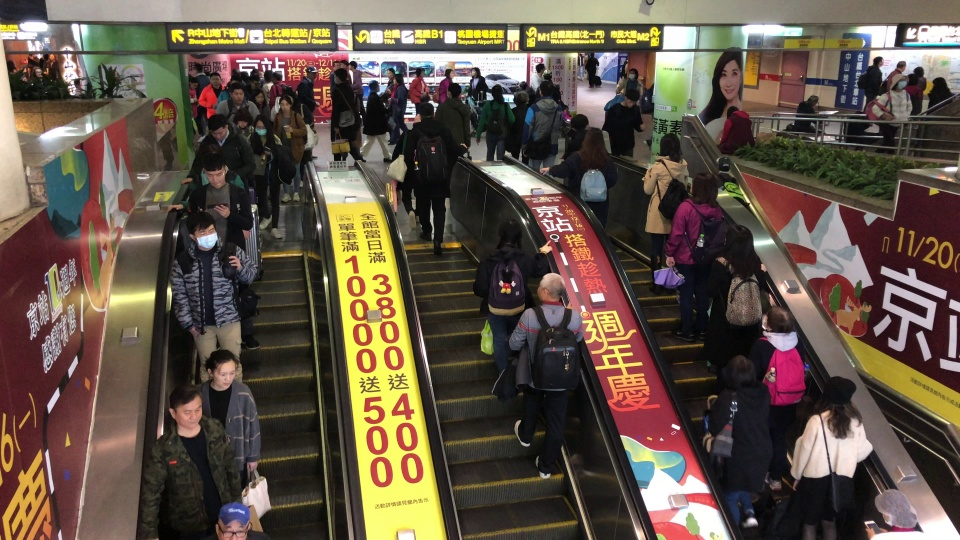person_head: (874, 488, 918, 528), (168, 384, 203, 430), (203, 348, 238, 391), (819, 375, 857, 413), (214, 501, 250, 540), (720, 353, 757, 390), (186, 211, 218, 250), (722, 224, 754, 260), (689, 171, 719, 207), (534, 272, 565, 303), (495, 218, 523, 250), (761, 305, 793, 333), (579, 127, 607, 156), (657, 132, 681, 161), (207, 113, 229, 142), (253, 113, 272, 136), (232, 108, 253, 128), (569, 113, 589, 132), (228, 82, 245, 104), (890, 73, 909, 91), (624, 88, 640, 109), (418, 102, 435, 119), (277, 94, 293, 112), (715, 155, 731, 173), (538, 80, 554, 98), (489, 83, 504, 100), (930, 77, 948, 91), (446, 83, 461, 99), (514, 90, 529, 106), (251, 88, 265, 105), (333, 68, 347, 84), (911, 65, 925, 80), (228, 74, 242, 88), (367, 79, 380, 93), (209, 72, 221, 86), (305, 66, 317, 80), (262, 69, 274, 82), (414, 66, 426, 79), (726, 105, 738, 118), (806, 94, 819, 106), (271, 71, 283, 83), (392, 72, 404, 84), (872, 56, 884, 68), (192, 62, 203, 75), (627, 67, 638, 80), (895, 59, 906, 72), (189, 76, 199, 90), (230, 68, 241, 80), (469, 67, 480, 79), (249, 68, 259, 81), (535, 63, 545, 76), (32, 67, 43, 78), (443, 68, 454, 79), (542, 69, 553, 80), (339, 58, 349, 69), (386, 67, 396, 78), (348, 59, 357, 71), (7, 59, 15, 71), (240, 71, 249, 81), (332, 60, 340, 70), (561, 104, 569, 112), (257, 70, 264, 78), (28, 52, 36, 58), (49, 53, 55, 60), (588, 52, 595, 57)
person_vbox: (138, 384, 244, 540), (168, 210, 256, 389), (507, 272, 582, 480), (789, 376, 873, 540), (471, 218, 552, 382), (702, 353, 774, 530), (747, 305, 806, 492), (663, 171, 723, 343), (700, 223, 767, 371), (193, 348, 261, 490), (406, 102, 467, 256), (538, 126, 618, 234), (642, 131, 688, 296), (179, 113, 257, 196), (247, 113, 285, 239), (271, 94, 308, 203), (519, 80, 561, 176), (390, 117, 421, 231), (871, 73, 913, 156), (601, 87, 646, 158), (355, 79, 392, 163), (475, 83, 514, 161), (863, 488, 919, 540), (434, 83, 471, 157), (292, 65, 320, 161), (328, 68, 357, 160), (215, 82, 260, 129), (712, 155, 750, 209), (716, 105, 755, 154), (508, 89, 530, 166), (386, 72, 408, 146), (466, 66, 488, 139), (191, 62, 210, 143), (843, 109, 881, 148), (792, 94, 827, 134), (348, 59, 367, 129), (197, 72, 225, 118), (562, 113, 589, 159), (903, 65, 926, 119), (863, 55, 884, 111), (227, 108, 255, 146), (269, 71, 297, 109), (437, 68, 465, 106), (409, 65, 429, 118), (924, 76, 951, 115), (615, 67, 643, 103), (215, 73, 242, 109), (535, 69, 562, 103), (886, 59, 906, 93), (249, 87, 270, 118), (380, 66, 396, 104), (584, 52, 599, 89), (28, 66, 54, 87), (259, 69, 275, 103), (5, 59, 27, 82), (328, 59, 340, 100), (188, 75, 199, 118), (530, 63, 546, 92), (337, 57, 352, 87), (247, 68, 263, 90), (43, 52, 60, 72), (25, 52, 41, 67), (577, 52, 585, 82), (561, 104, 572, 124)
